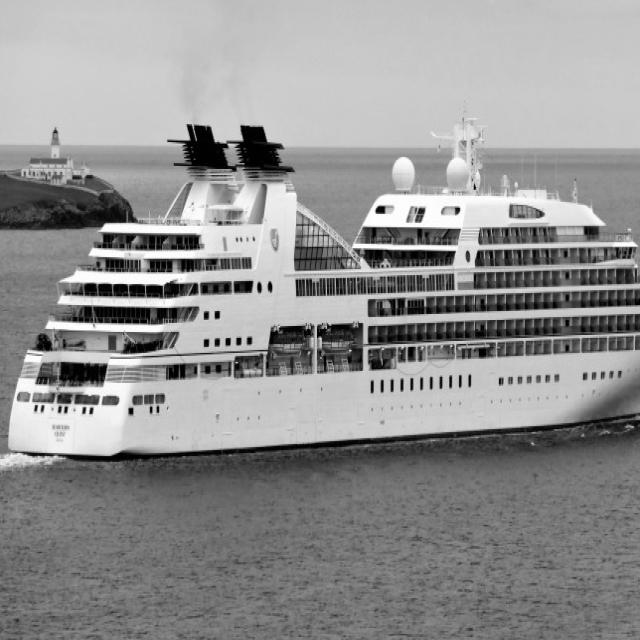cruises: (1, 109, 640, 474)
